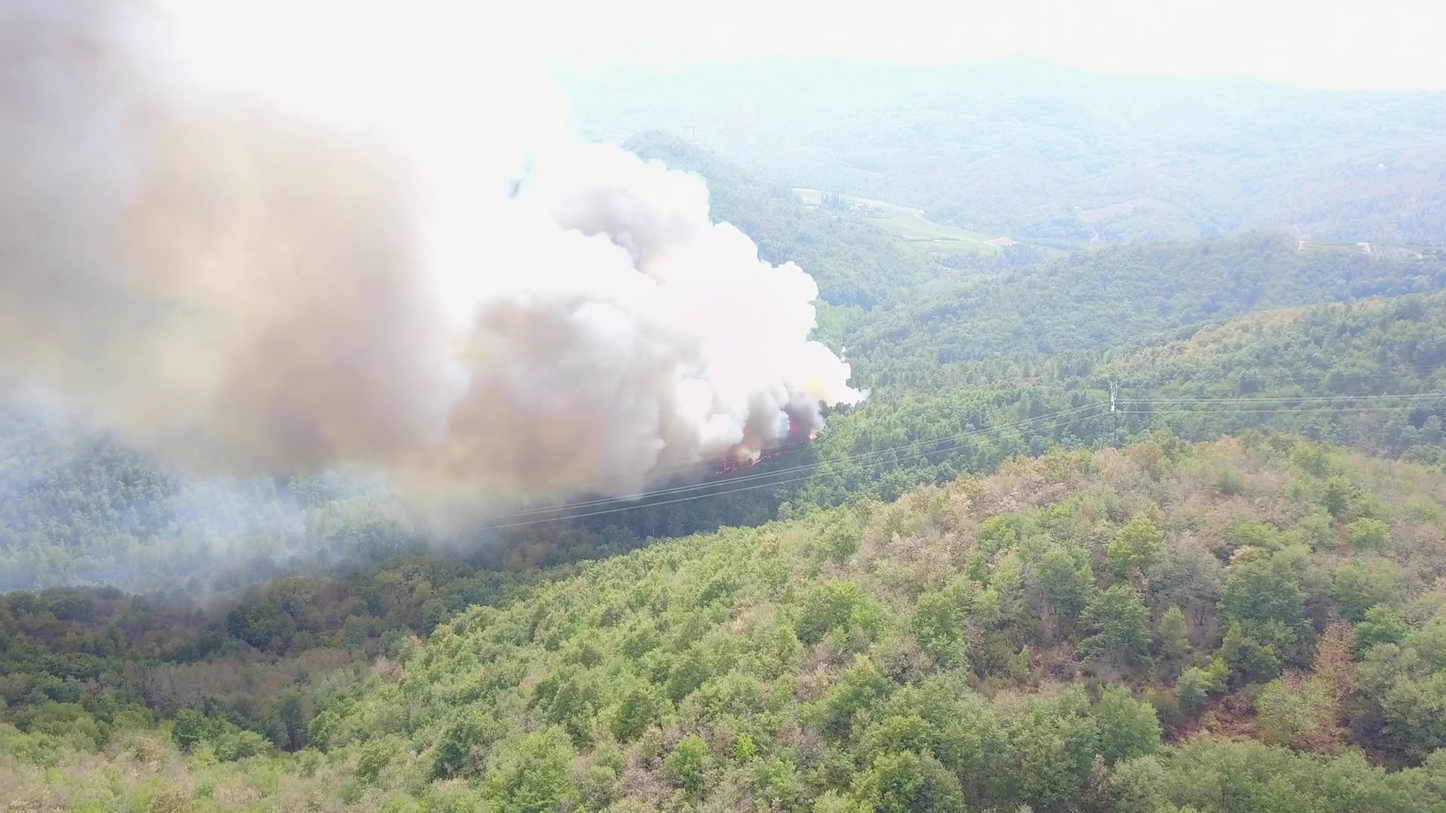forest_fire: (790, 416, 803, 437)
